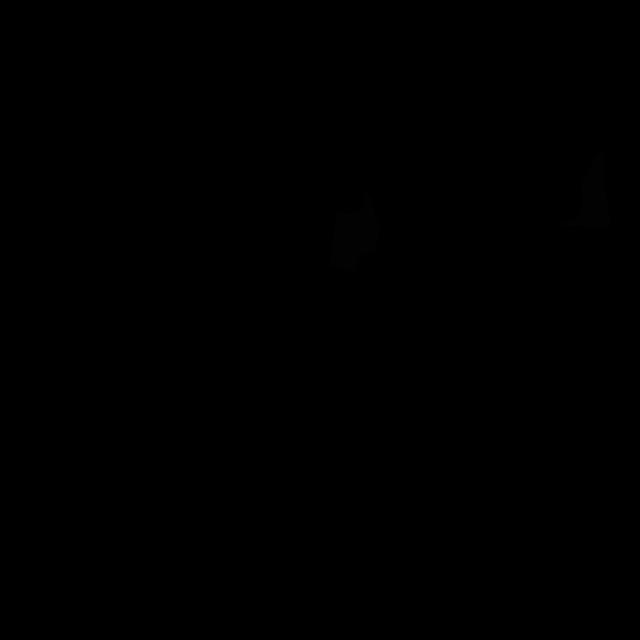cardboard: (558, 148, 611, 231), (330, 193, 381, 273)
